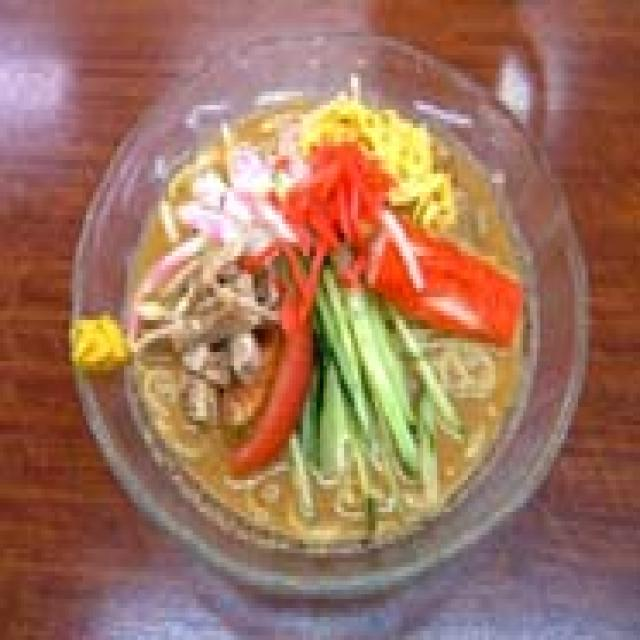面条主食: (55, 0, 595, 640)
